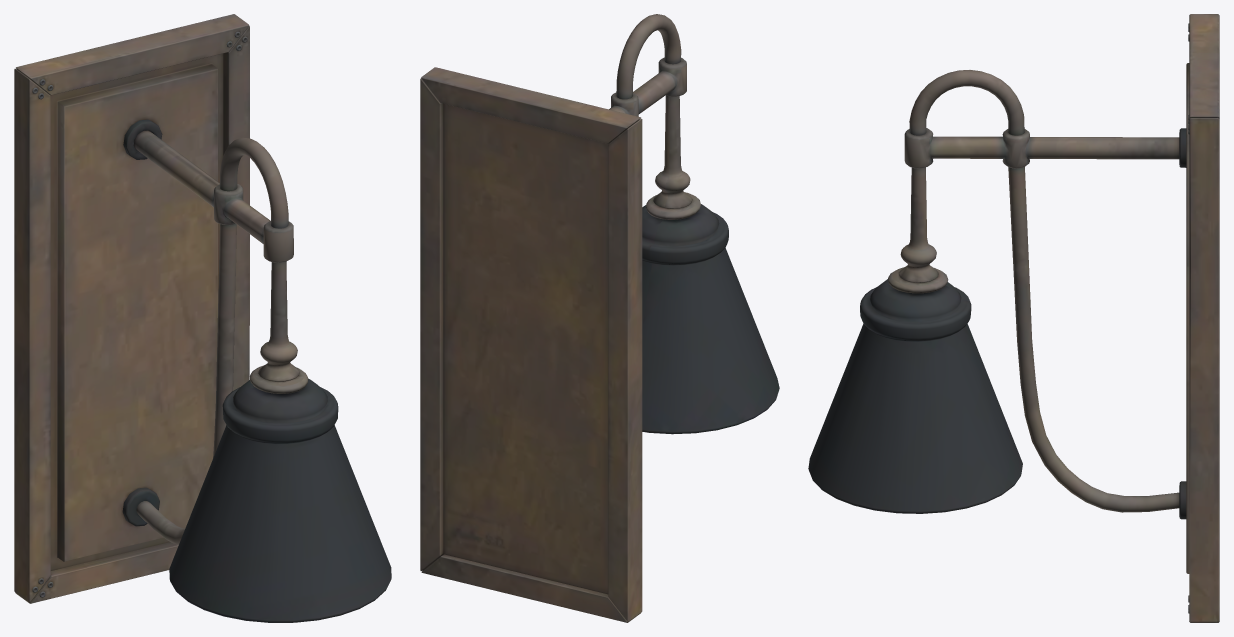
File: industrial_wall_sconce.glb
3 views of the same model, side by side, from view 1: azimuth 30°, elevation 25°; view 2: azimuth 150°, elevation 25°; view 3: azimuth 270°, elevation 25° (orthographic). The views are drawn at different scales.
Visible parts, largest first — view 1: industrial_wall_sconce; view 2: industrial_wall_sconce; view 3: industrial_wall_sconce.
Part boxes in pixels (x1,y1,x2,y2): industrial_wall_sconce: (14,14,391,622); industrial_wall_sconce: (420,14,779,622); industrial_wall_sconce: (808,14,1219,622).
Size of the model in its own units: 0.1503 by 0.3418 by 0.2516.
Materials: 2 (2 with a texture image).
